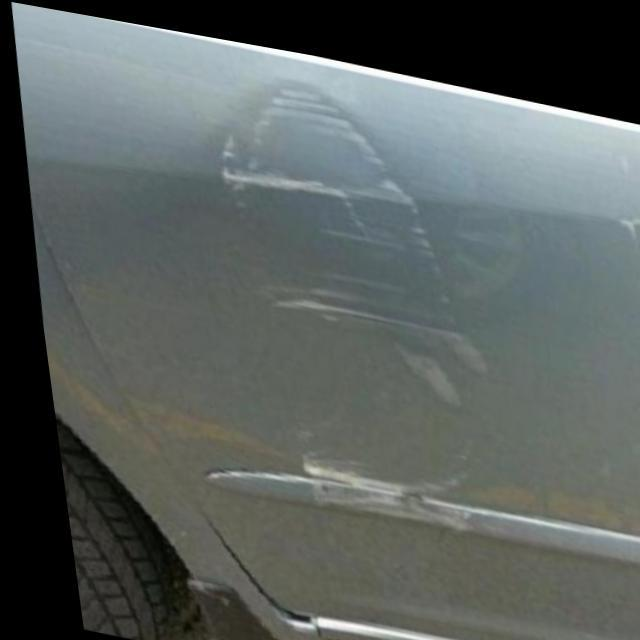rub: (217, 71, 475, 514)
